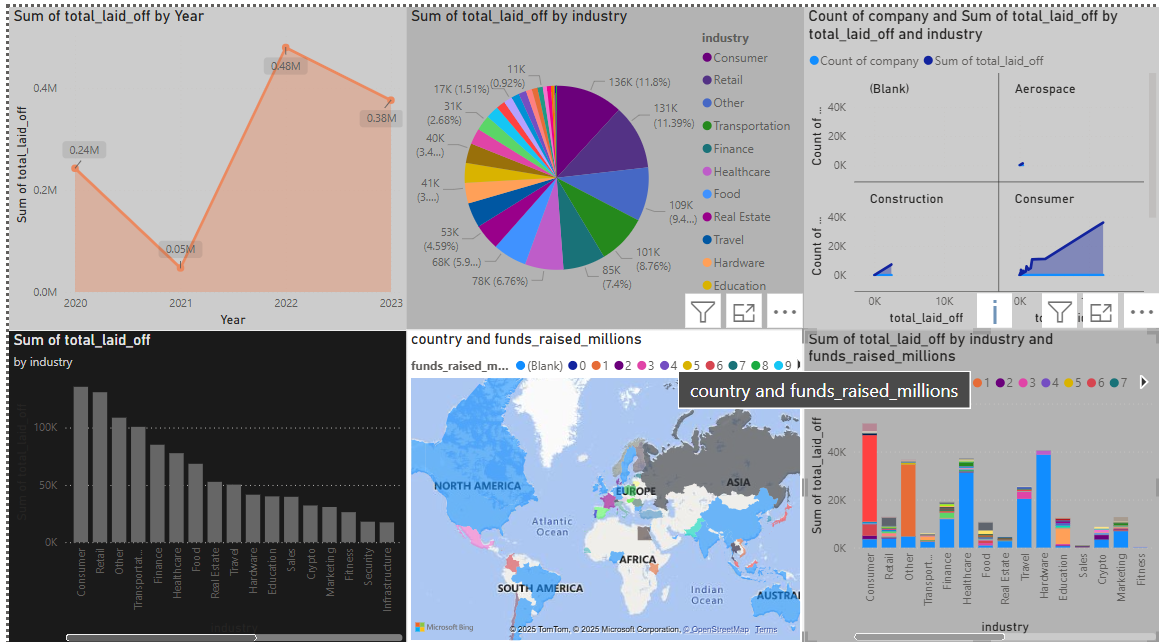

What the dashboard file says about the page in this screenshot:
{"tool":"powerbi","page":{"name":"Page 1","canvas":[1280,720],"ordinal":0},"visuals":[{"type":"lineChart","fields":{"Category":["worl_layoffs layoffs_staging2.date.Variation.Date Hierarchy.Year"],"Y":["Sum(worl_layoffs layoffs_staging2.total_laid_off)"]},"box":[0,0,442,359.5],"z":1},{"type":"columnChart","fields":{"Category":["worl_layoffs layoffs_staging2.industry"],"Y":["Sum(worl_layoffs layoffs_staging2.total_laid_off)"]},"box":[0,359.5,442,349.8],"z":2},{"type":"pieChart","fields":{"Category":["worl_layoffs layoffs_staging2.industry"],"Y":["Sum(worl_layoffs layoffs_staging2.total_laid_off)"]},"box":[442,0,442,359.5],"z":3},{"type":"filledMap","fields":{"Category":["worl_layoffs layoffs_staging2.country"],"Series":["worl_layoffs layoffs_staging2.funds_raised_millions"]},"box":[442,359,442,350],"z":4},{"type":"areaChart","fields":{"Category":["worl_layoffs layoffs_staging2.total_laid_off"],"Y":["worl_layoffs layoffs_staging2.company","Sum(worl_layoffs layoffs_staging2.total_laid_off)"],"Rows":["worl_layoffs layoffs_staging2.industry"]},"box":[883.3,0,396.7,358.3],"z":5},{"type":"lineStackedColumnComboChart","fields":{"Category":["worl_layoffs layoffs_staging2.industry"],"Series":["worl_layoffs layoffs_staging2.funds_raised_millions"],"Y":["Sum(worl_layoffs layoffs_staging2.total_laid_off)"]},"box":[884,359,396,350],"z":6}]}

Visuals, with their boxes in screenshot pixels (x1, y1, x2, y2), scaled from the page's 1280x720 canvas onto the 1159x642 screenshot:
lineChart - worl_layoffs layoffs_staging2.date.Variation.Date Hierarchy.Year x Sum(worl_layoffs layoffs_staging2.total_laid_off): x1=0 y1=0 x2=400 y2=321
columnChart - worl_layoffs layoffs_staging2.industry x Sum(worl_layoffs layoffs_staging2.total_laid_off): x1=0 y1=321 x2=400 y2=632
pieChart - worl_layoffs layoffs_staging2.industry x Sum(worl_layoffs layoffs_staging2.total_laid_off): x1=400 y1=0 x2=800 y2=321
filledMap - worl_layoffs layoffs_staging2.country x worl_layoffs layoffs_staging2.funds_raised_millions: x1=400 y1=320 x2=800 y2=632
areaChart - worl_layoffs layoffs_staging2.total_laid_off x worl_layoffs layoffs_staging2.company: x1=800 y1=0 x2=1158 y2=319
lineStackedColumnComboChart - worl_layoffs layoffs_staging2.industry x worl_layoffs layoffs_staging2.funds_raised_millions: x1=800 y1=320 x2=1158 y2=632
